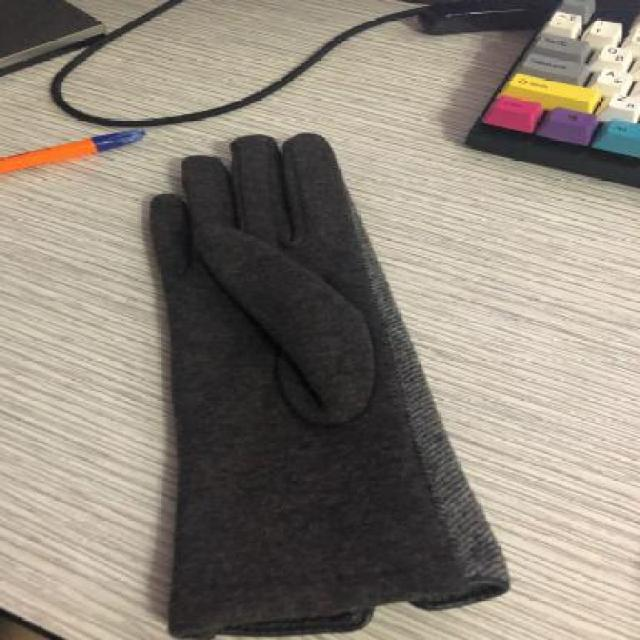Gloves: (140, 126, 513, 640)
